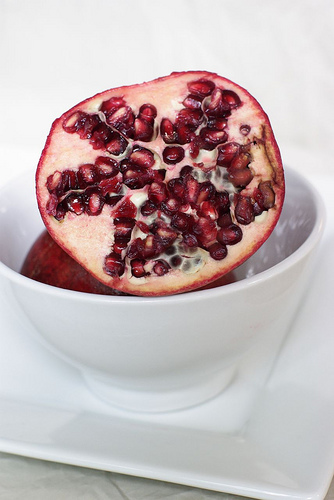pomogranate: (33, 70, 286, 296)
